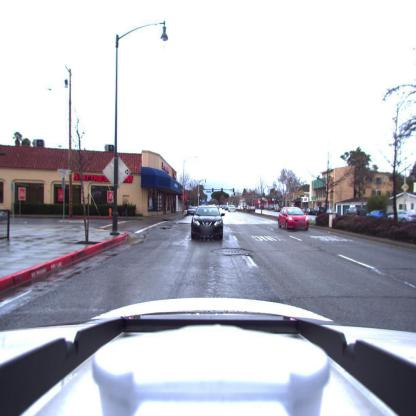car: (191, 206, 223, 240), (277, 208, 309, 230), (389, 210, 416, 223), (345, 204, 369, 216), (368, 211, 388, 218), (245, 204, 257, 215), (188, 206, 198, 215), (227, 205, 236, 212)
